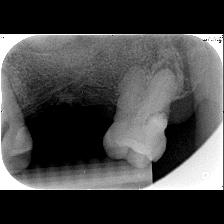apical_lesion: (104, 37, 186, 170)
